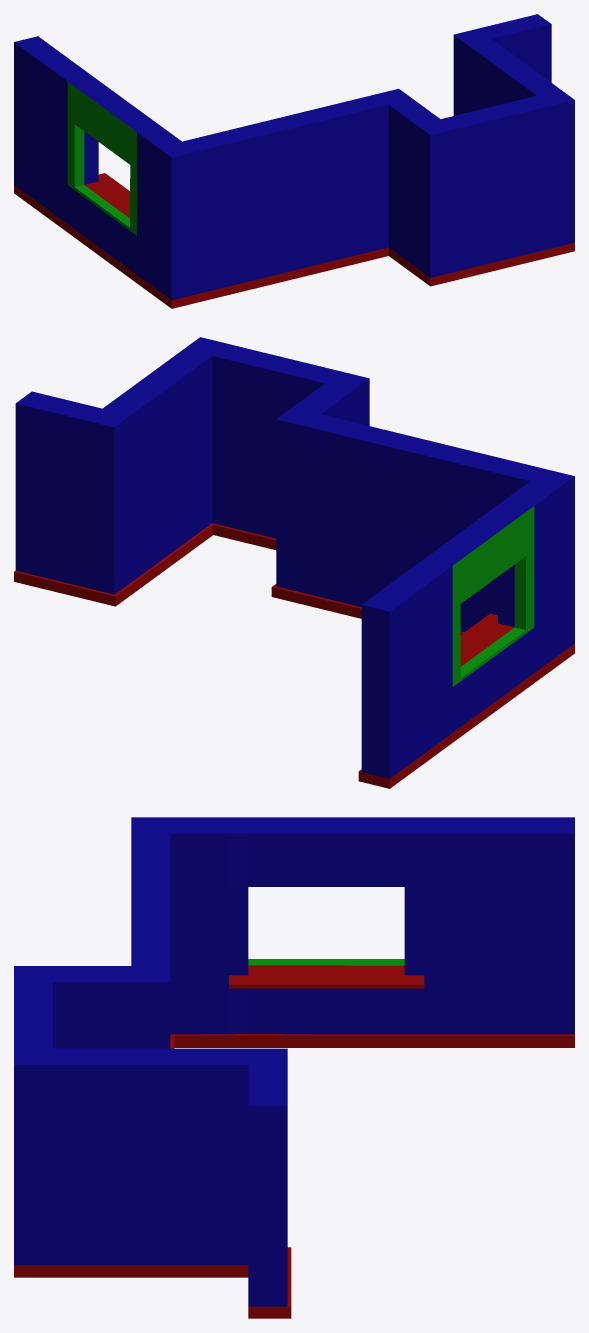
The model's file is Wall2.FBX.
The picture shows the model from 3 angles, top to bottom: view 1: azimuth 30°, elevation 25°; view 2: azimuth 150°, elevation 25°; view 3: azimuth 270°, elevation 25°; orthographic projection. The views are drawn at different scales.
Visible parts, largest first — view 1: Wall2; view 2: Wall2; view 3: Wall2.
Boxes of the visible parts, x1,y1,x2,y2 form: Wall2: (14, 14, 574, 308); Wall2: (14, 337, 574, 788); Wall2: (14, 817, 574, 1318).
Bounding box in the file's own units: 875 × 718 × 300.
